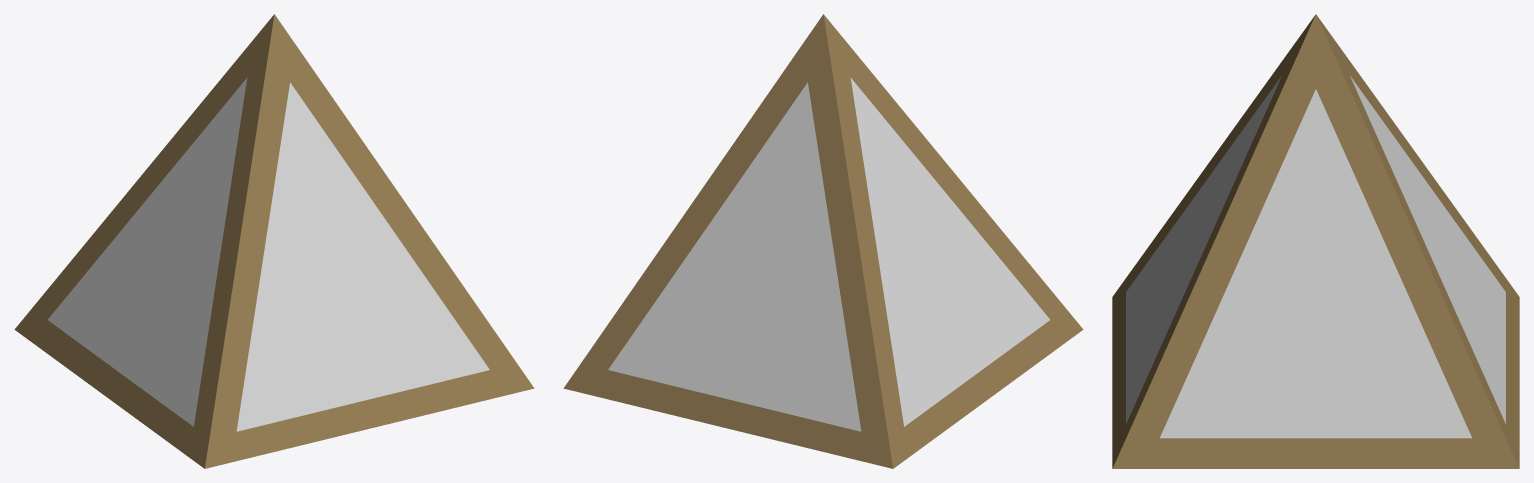
File: Pyramid key.fbx
3 renders of one model, left to right at view 1: azimuth 30°, elevation 25°; view 2: azimuth 150°, elevation 25°; view 3: azimuth 270°, elevation 25°, orthographic. The views are drawn at different scales.
Visible parts, largest first — view 1: Cube.009; view 2: Cube.009; view 3: Cube.009.
Boxes of the visible parts, x1,y1,x2,y2 form: Cube.009: [14, 14, 534, 468]; Cube.009: [563, 14, 1083, 468]; Cube.009: [1112, 14, 1519, 468].
Bounding box in the file's own units: 60 × 60 × 60.
